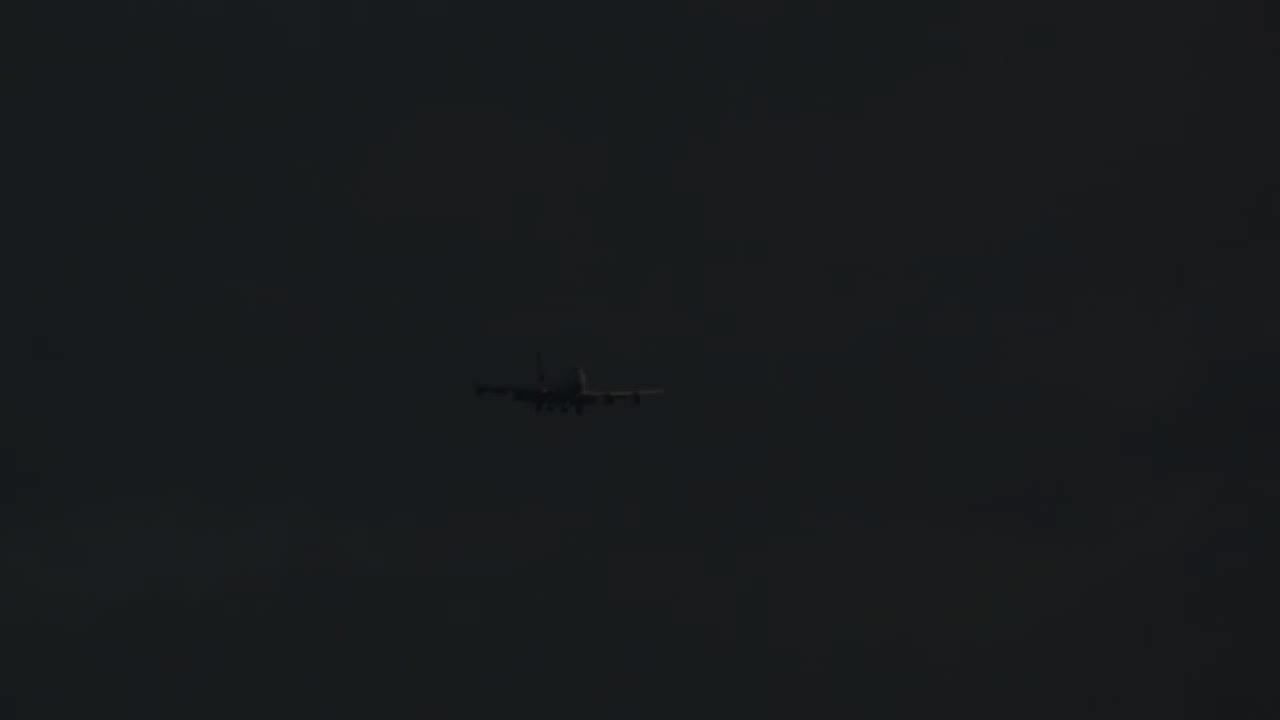aeroplane: (478, 353, 676, 420)
